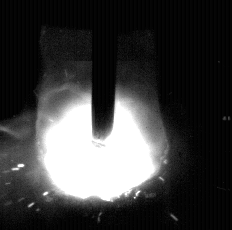arame: (92, 0, 115, 139)
poca: (36, 0, 168, 230)
